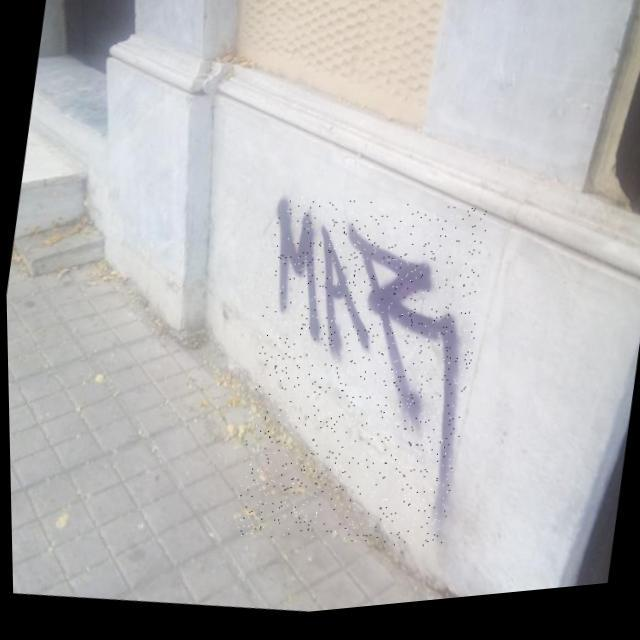-: (225, 185, 496, 573)
